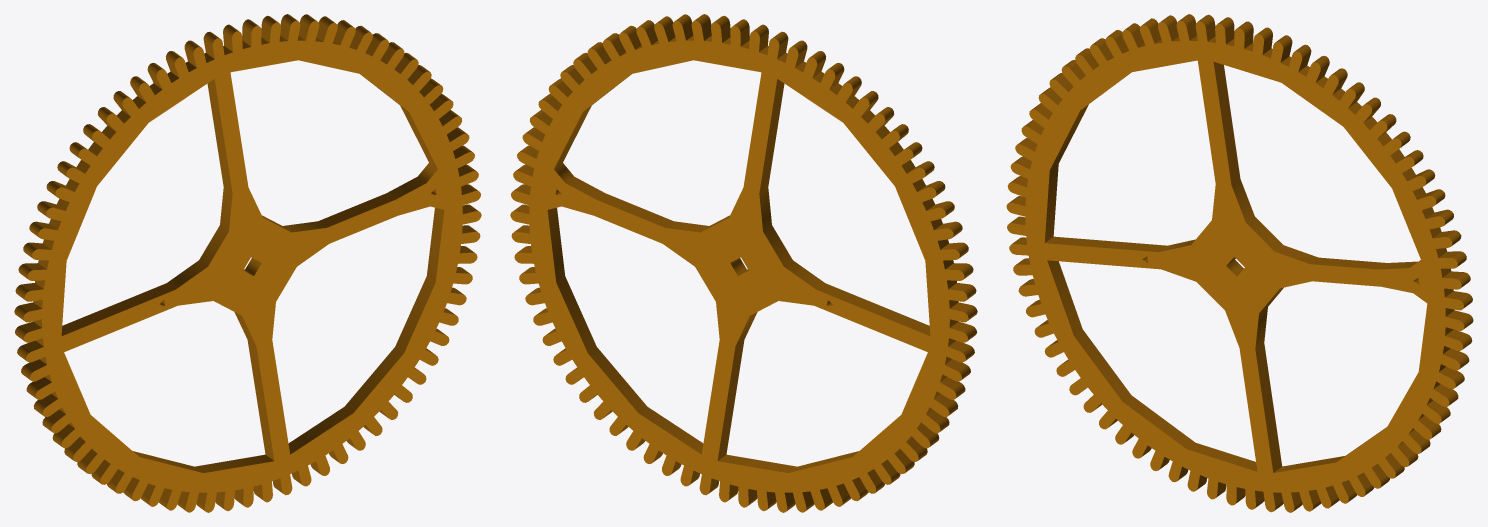
Rendered from Copie de Roue Ass 07^Copie de ass roue pour Ass 07_Copie de Assemblage 07_Horloge Comtoise Verge - Sonnerie.obj.
The picture shows the model from 3 angles, left to right: view 1: azimuth 30°, elevation 25°; view 2: azimuth 150°, elevation 25°; view 3: azimuth 330°, elevation 25°; orthographic projection.
Parts seen in each view (by area): view 1: Face_1, Face_161, Face_154, Face_151, Face_155, Face_153, Face_156, Face_149, Face_148; view 2: Face_169, Face_161, Face_154, Face_151, Face_155, Face_153, Face_156, Face_149, Face_148; view 3: Face_1, Face_156, Face_162, Face_150, Face_146, Face_152, Face_151, Face_149.
Part boxes in pixels (left/top/right/bottom): Face_1: left=23, top=20, right=481, bottom=512; Face_161: left=288, top=207, right=444, bottom=454; Face_154: left=167, top=187, right=232, bottom=289; Face_151: left=61, top=283, right=175, bottom=335; Face_155: left=247, top=340, right=274, bottom=460; Face_153: left=207, top=79, right=232, bottom=193; Face_156: left=133, top=451, right=273, bottom=472; Face_149: left=318, top=193, right=394, bottom=227; Face_148: left=386, top=163, right=437, bottom=199; Face_169: left=510, top=20, right=968, bottom=512; Face_161: left=547, top=207, right=703, bottom=454; Face_154: left=759, top=187, right=824, bottom=289; Face_151: left=816, top=283, right=930, bottom=335; Face_155: left=717, top=340, right=744, bottom=460; Face_153: left=759, top=79, right=784, bottom=193; Face_156: left=718, top=451, right=858, bottom=472; Face_149: left=597, top=193, right=673, bottom=227; Face_148: left=554, top=163, right=605, bottom=199; Face_1: left=1006, top=20, right=1464, bottom=512; Face_156: left=1047, top=260, right=1257, bottom=471; Face_162: left=1255, top=343, right=1282, bottom=472; Face_150: left=1231, top=179, right=1318, bottom=263; Face_146: left=1213, top=62, right=1240, bottom=185; Face_152: left=1044, top=78, right=1123, bottom=242; Face_151: left=1045, top=236, right=1166, bottom=252; Face_149: left=1310, top=257, right=1386, bottom=269.
Bounding box in the file's own units: 0.0606 × 0.0606 × 0.00205.
